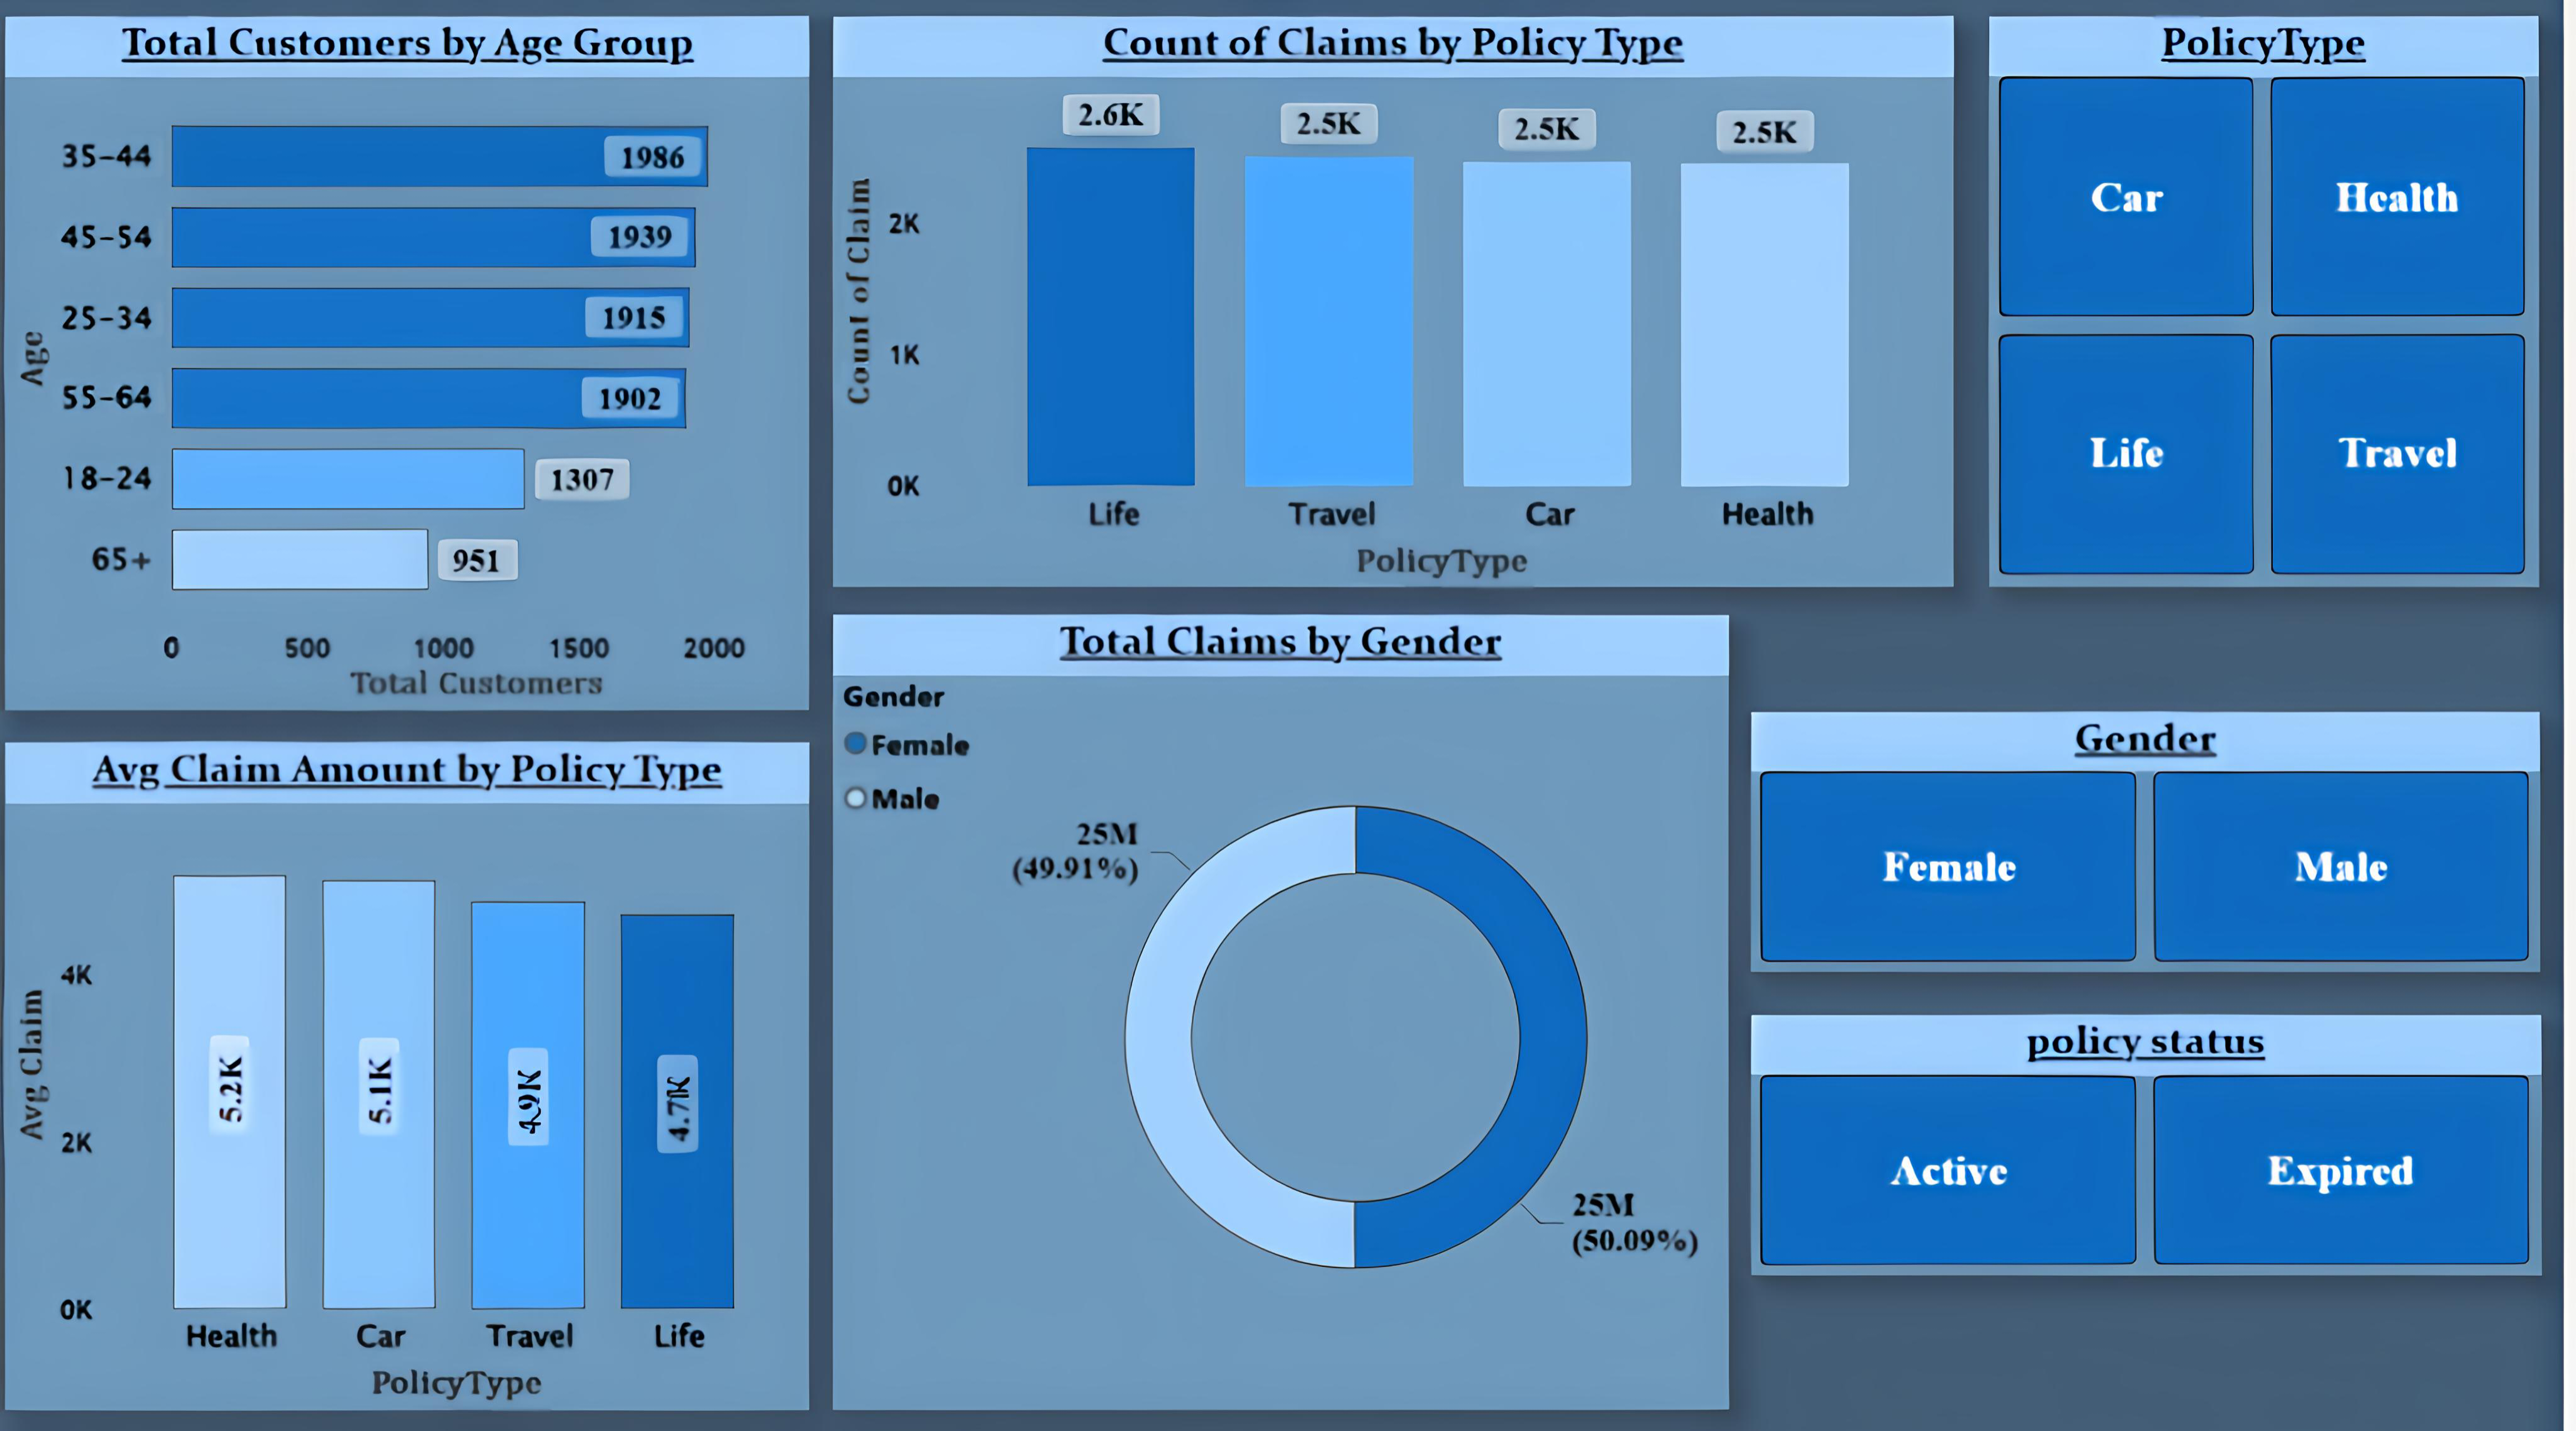

The page's visual inventory and layout, read from the dashboard file:
{"tool":"powerbi","page":{"name":"Page 2","canvas":[1280,720],"ordinal":2},"visuals":[{"type":"barChart","title":"Total Customers by Age Group","fields":{"Category":["Insurance.AgeGroup"],"Y":["Insurance.Total Customers"]},"box":[13.7,16.5,397.9,343.1],"z":0},{"type":"lineStackedColumnComboChart","title":"Avg Claim Amount by Policy Type","fields":{"Category":["Insurance.PolicyType"],"Y":["Insurance.Avg Claim Amount"]},"box":[13.7,376,397.9,330.7],"z":1000},{"type":"lineStackedColumnComboChart","title":"Count of Claims by Policy Type","fields":{"Category":["Insurance.PolicyType"],"Y":["CountNonNull(Insurance.ClaimFlagCustom)"]},"box":[422.6,16.5,554.4,282.7],"z":2000},{"type":"donutChart","fields":{"Category":["Insurance.Gender"],"Y":["Insurance.Total Claims"]},"box":[422.6,312.9,443.2,393.8],"z":3000},{"type":"advancedSlicerVisual","fields":{"Values":["Insurance.PolicyType"]},"box":[994.9,16.5,271.7,282.7],"z":4000},{"type":"advancedSlicerVisual","fields":{"Values":["Insurance.Gender"]},"box":[876.7,360.5,390.7,129.1],"z":5000},{"type":"advancedSlicerVisual","fields":{"Values":["Insurance.policy status"]},"box":[876.8,510.5,391.1,129],"z":6000}]}

Visuals, with their boxes in screenshot pixels (x1, y1, x2, y2), scaled from the page's 1280x720 canvas onto the 2576x1431 screenshot:
"Total Customers by Age Group" barChart: bbox=(28, 33, 828, 715)
"Avg Claim Amount by Policy Type" lineStackedColumnComboChart: bbox=(28, 748, 828, 1405)
"Count of Claims by Policy Type" lineStackedColumnComboChart: bbox=(850, 33, 1966, 595)
donutChart - Insurance.Gender x Insurance.Total Claims: bbox=(850, 622, 1743, 1405)
advancedSlicerVisual - Insurance.PolicyType: bbox=(2002, 33, 2549, 595)
advancedSlicerVisual - Insurance.Gender: bbox=(1764, 717, 2551, 973)
advancedSlicerVisual - Insurance.policy status: bbox=(1765, 1015, 2551, 1271)
